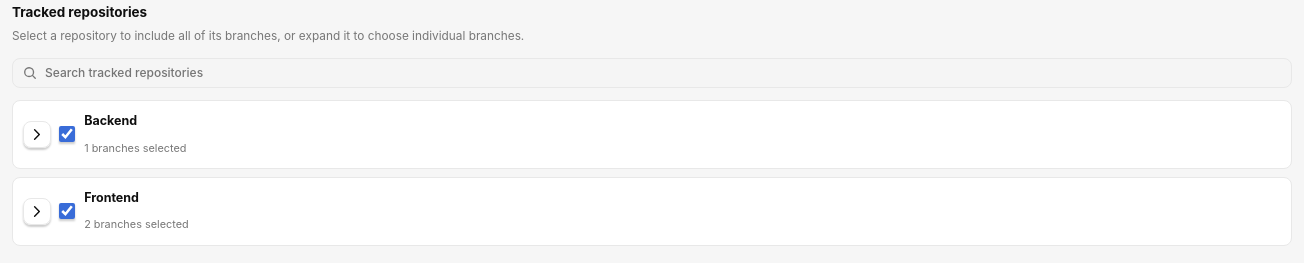
Test case: RepositoryScopeSelector › shows a distinct message when the search has no matches
The width and height of the screenshot is (1304, 263).
Type "missing" into the field labelled "Search tracked repositories" at coordinates (652, 73), box left=13, top=59, right=1291, bottom=87
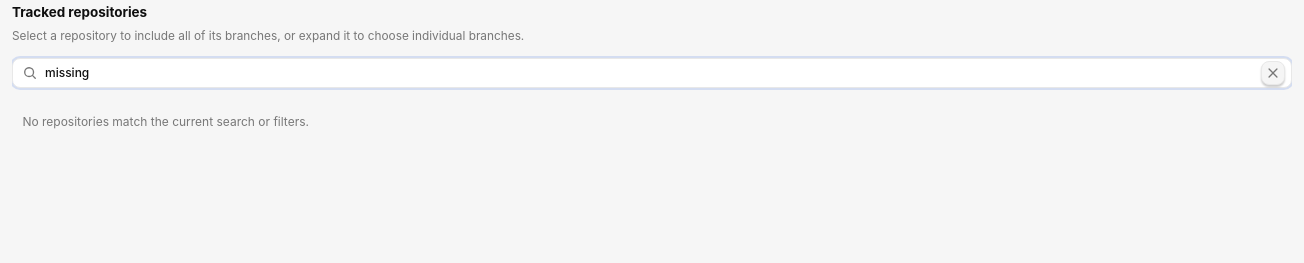
expect the text "No repositories match the current search or filters." is shown: met, box left=22, top=114, right=309, bottom=129
